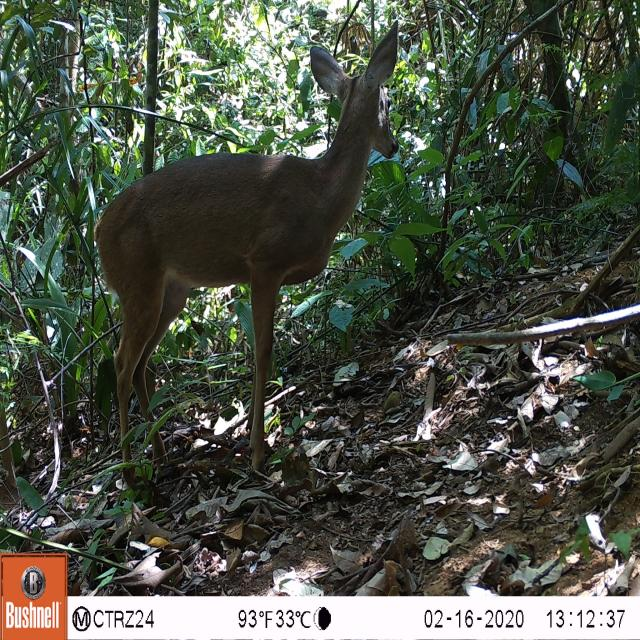White-tailed Deer: (90, 15, 414, 491)
